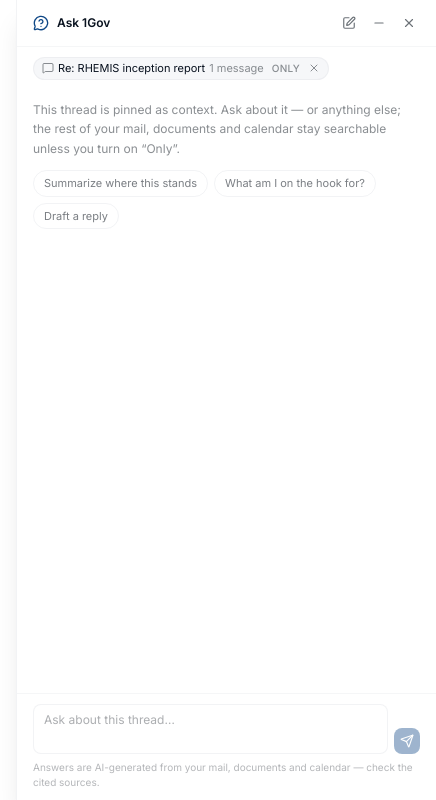
Test: AskPanel scope chip › reads "N of M messages" against the gathered count, not the placeholder
Type "where does this stand?" into the text box with placeholder "Ask about this thread…" at (210, 729), box [33,704,388,754]
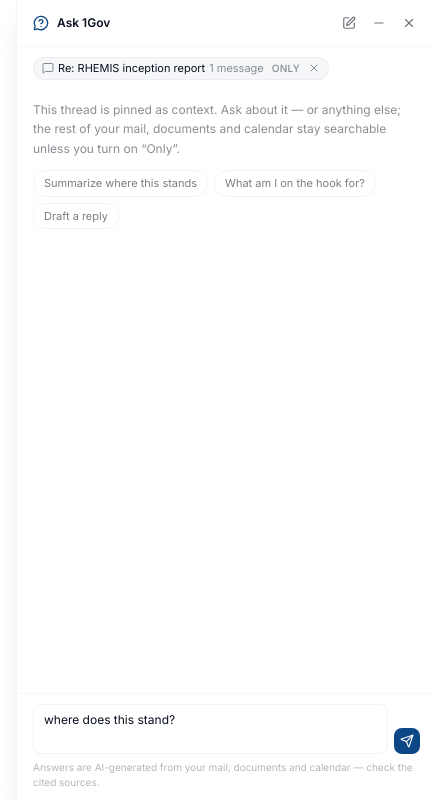
Click the button named "Send" at (407, 741), box [394,728,420,754]
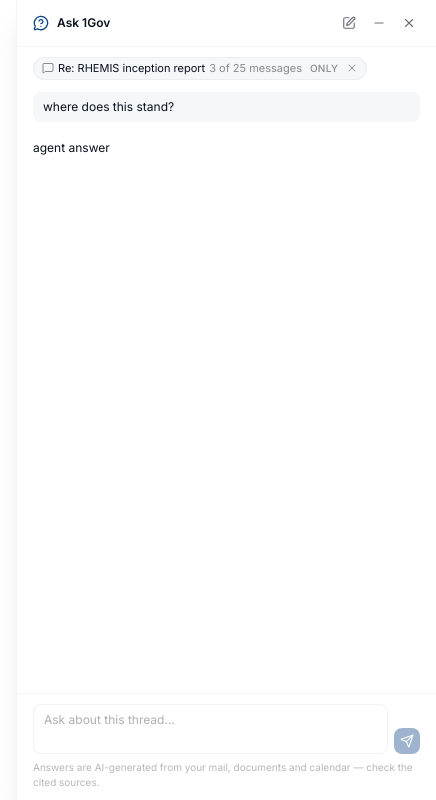
Result: the text "3 of 25 messages" is shown at [209,60,302,76]
